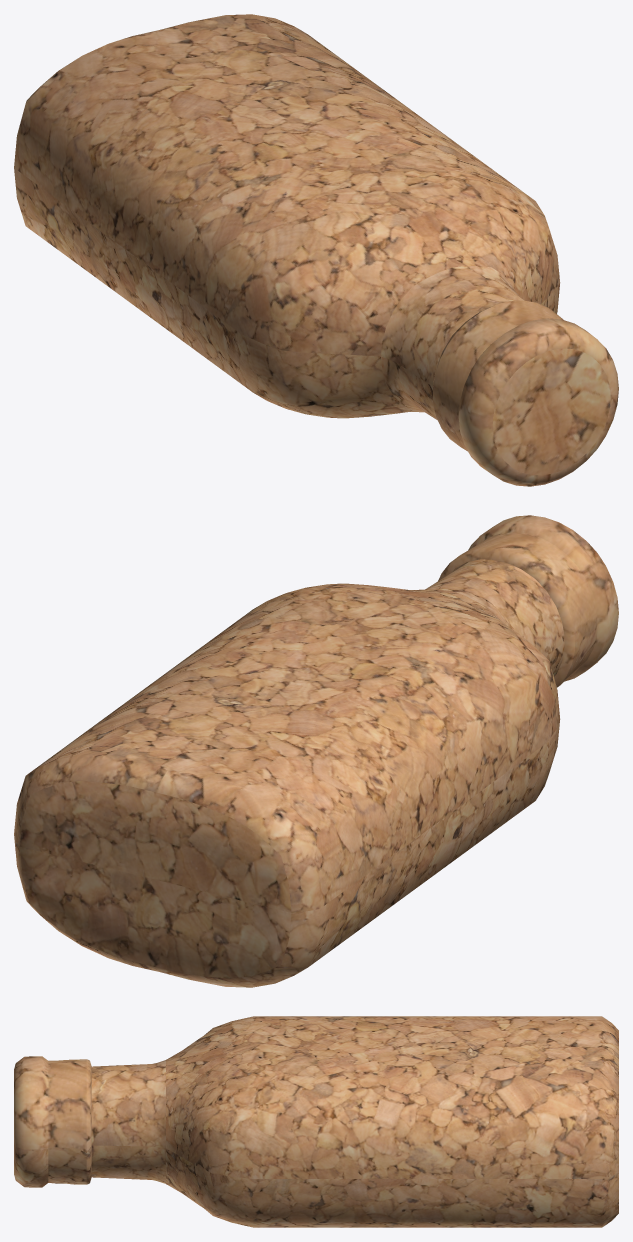
3 views of the same model, one above another, from view 1: azimuth 30°, elevation 25°; view 2: azimuth 150°, elevation 25°; view 3: azimuth 270°, elevation 25° (orthographic). The views are drawn at different scales.
Bounding box in the file's own units: 0.4463 × 0.284 × 1.
